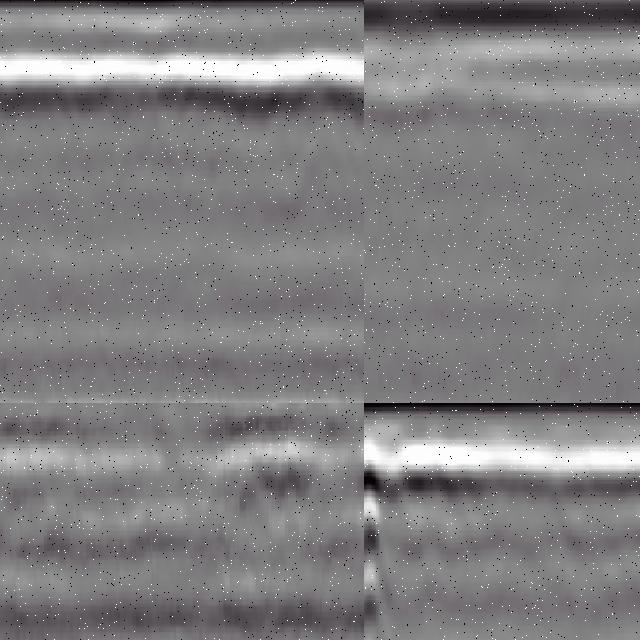crack: (365, 446, 384, 640)
